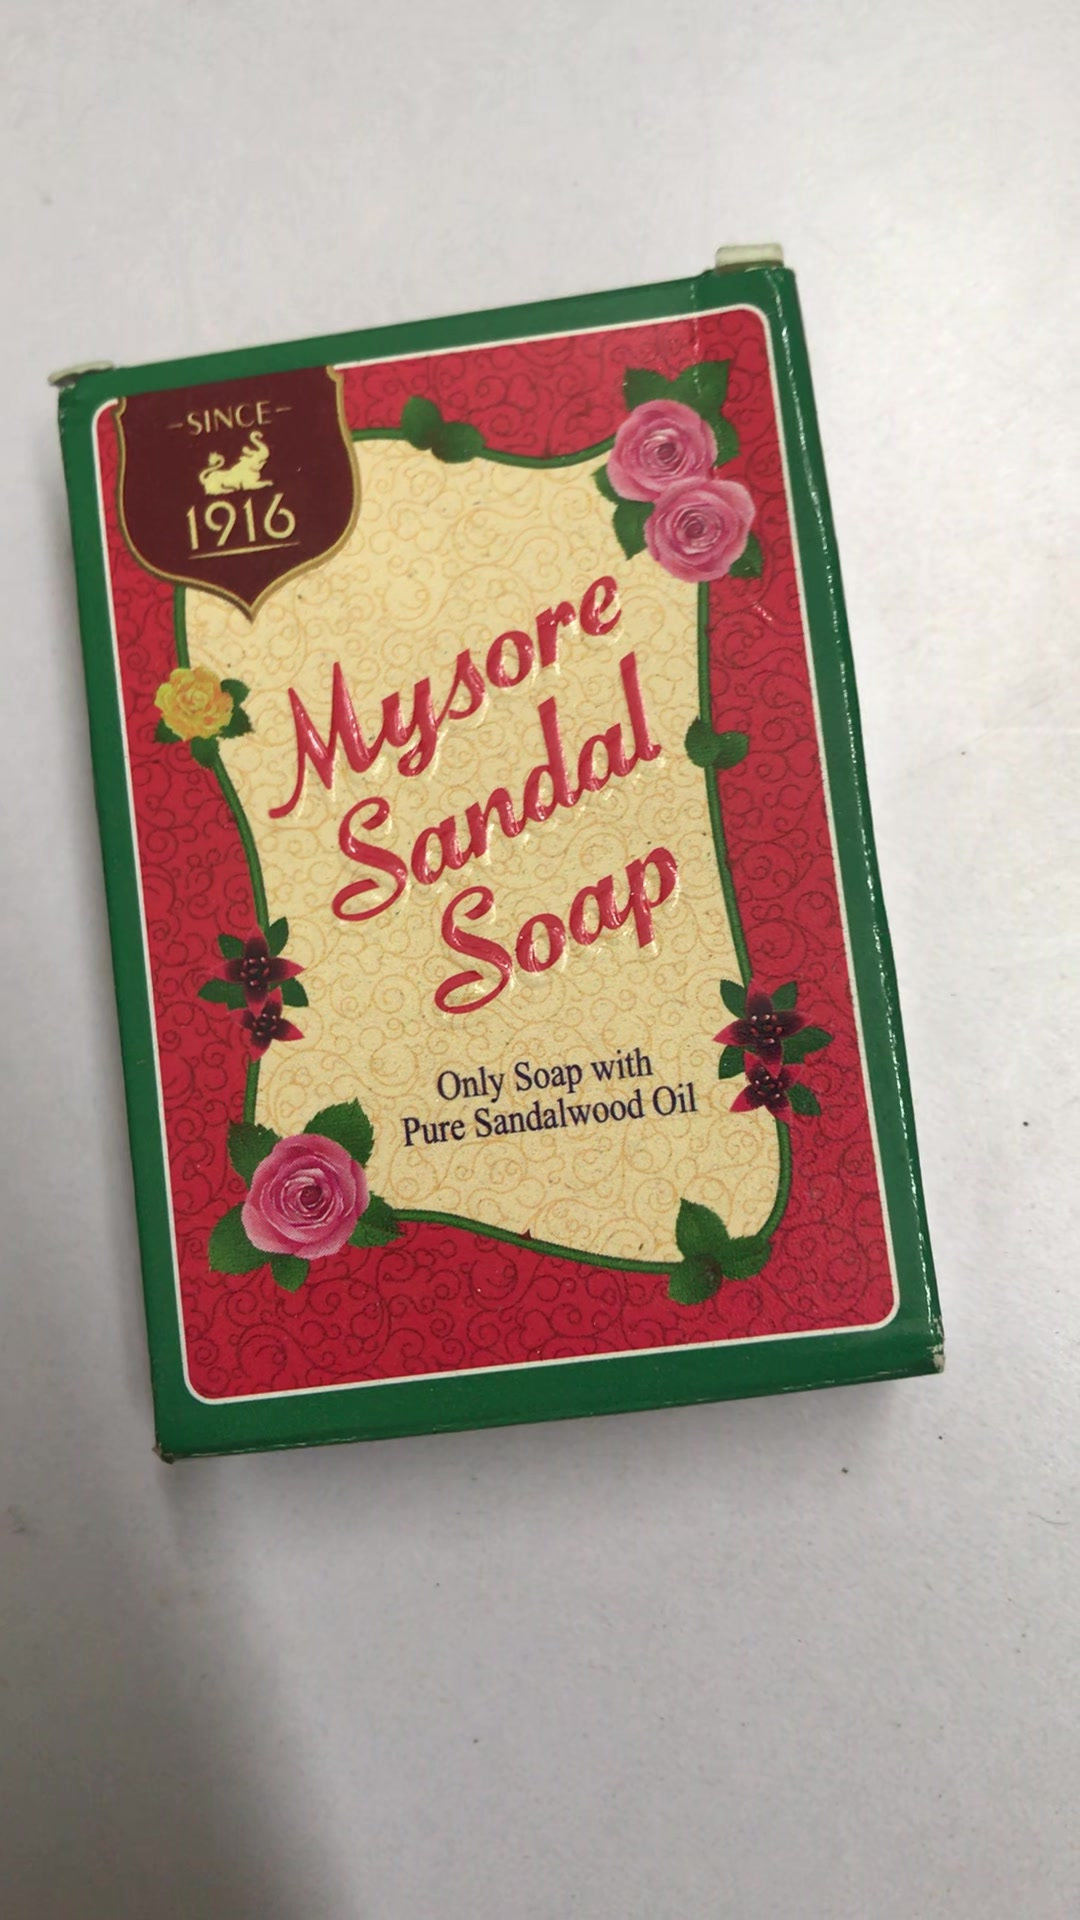mysore sandal soap: (57, 272, 940, 1462)
